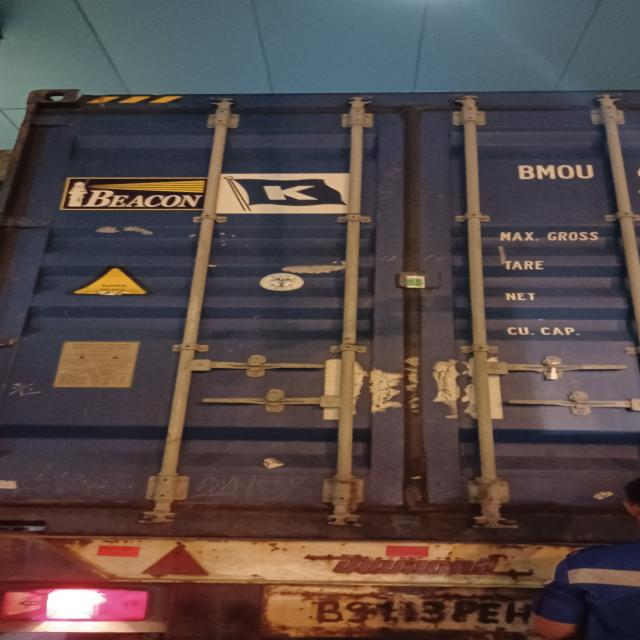seal: (538, 360, 567, 380)
